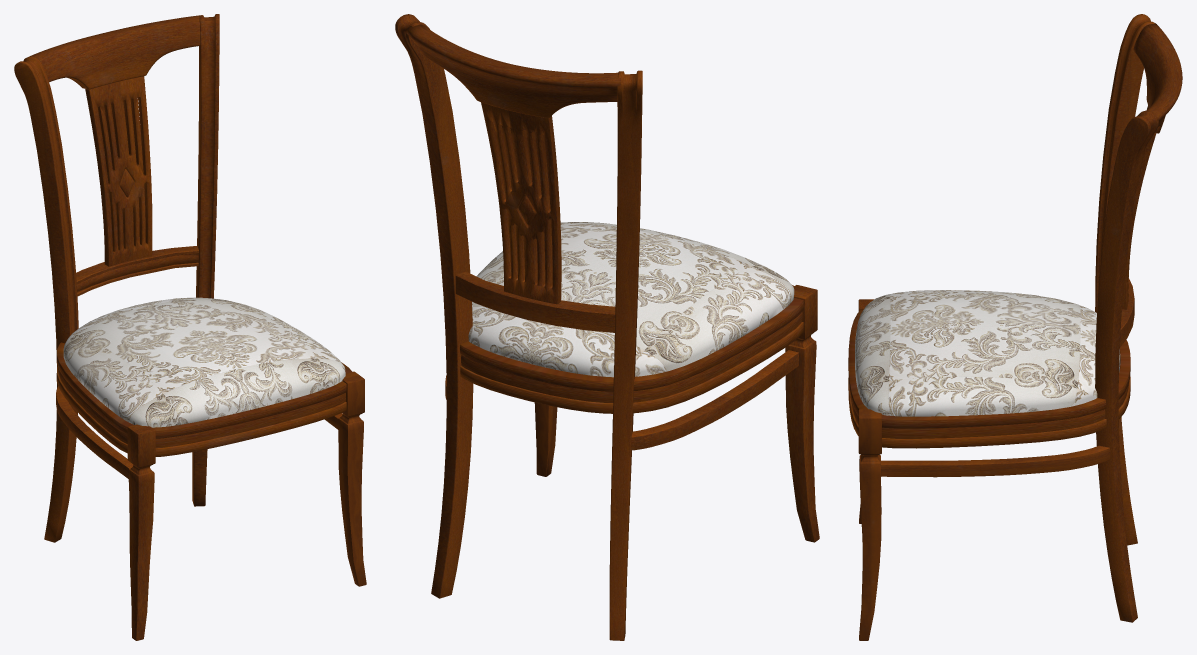
The model's file is chair2.FBX.
3 views of the same model, side by side, from view 1: azimuth 30°, elevation 25°; view 2: azimuth 150°, elevation 25°; view 3: azimuth 270°, elevation 25° (orthographic). The views are drawn at different scales.
Visible parts, largest first — view 1: chair; view 2: chair; view 3: chair.
Boxes of the visible parts, left/top/right/bottom form: chair: left=14, top=14, right=366, bottom=640; chair: left=395, top=14, right=819, bottom=640; chair: left=848, top=14, right=1182, bottom=640.
Bounding box in the file's own units: 48.81 × 96.79 × 56.9.
